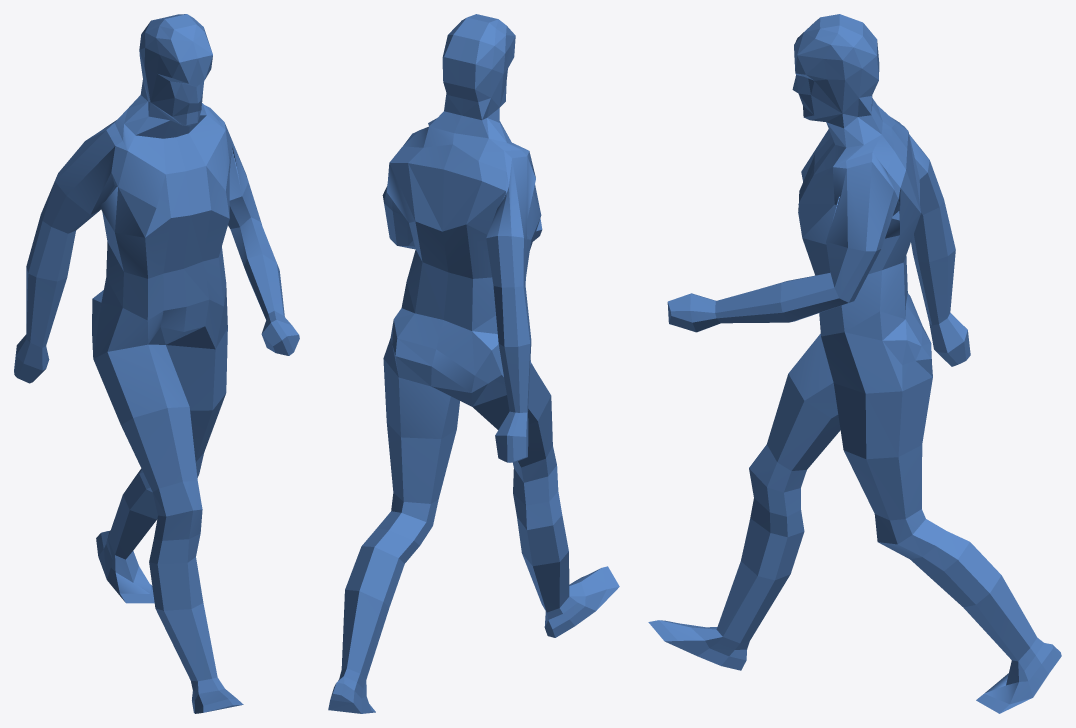
Rendered from blender_walkpose.glb.
3 views of the same model, side by side, from view 1: azimuth 30°, elevation 25°; view 2: azimuth 150°, elevation 25°; view 3: azimuth 270°, elevation 25° (orthographic). The views are drawn at different scales.
Visible parts, largest first — view 1: Object_9; view 2: Object_9; view 3: Object_9.
Boxes of the visible parts, box(x1,y1,x2,y2) form: Object_9: box(14, 14, 299, 713); Object_9: box(328, 14, 619, 713); Object_9: box(648, 14, 1061, 713).
Bounding box in the file's own units: 53.38 × 173 × 97.96.
